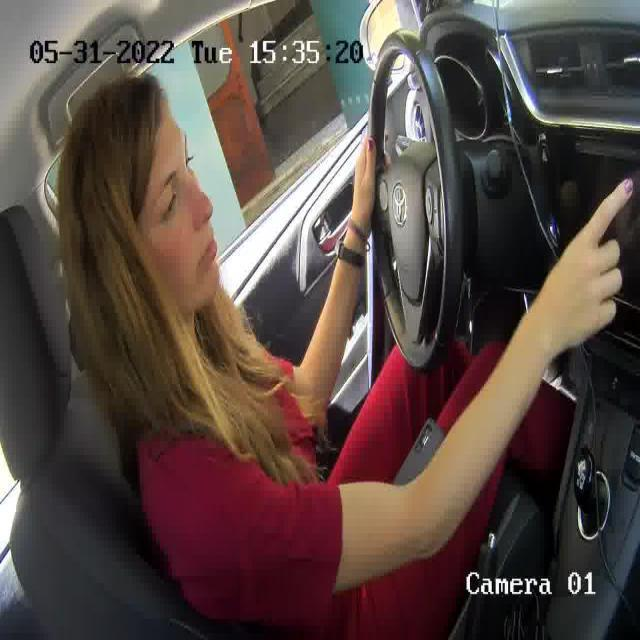Eye-Open: (161, 190, 183, 223)
Inattentive: (62, 76, 224, 329)
Normal: (198, 235, 219, 271)
